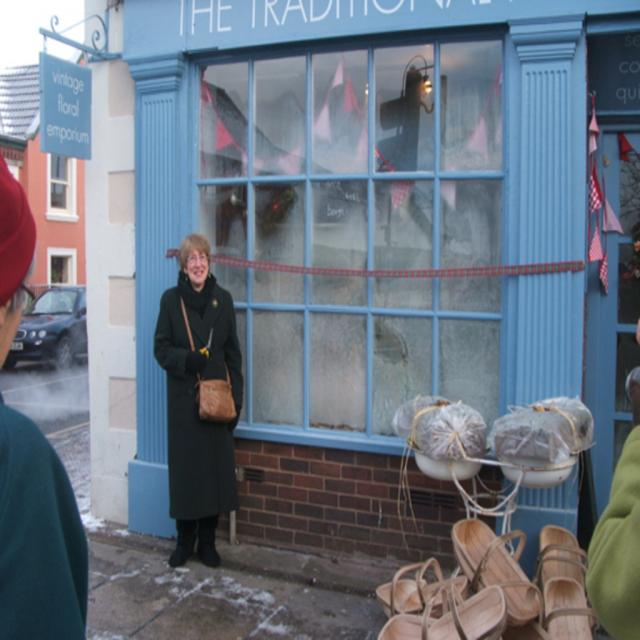other: (2, 280, 89, 378)
